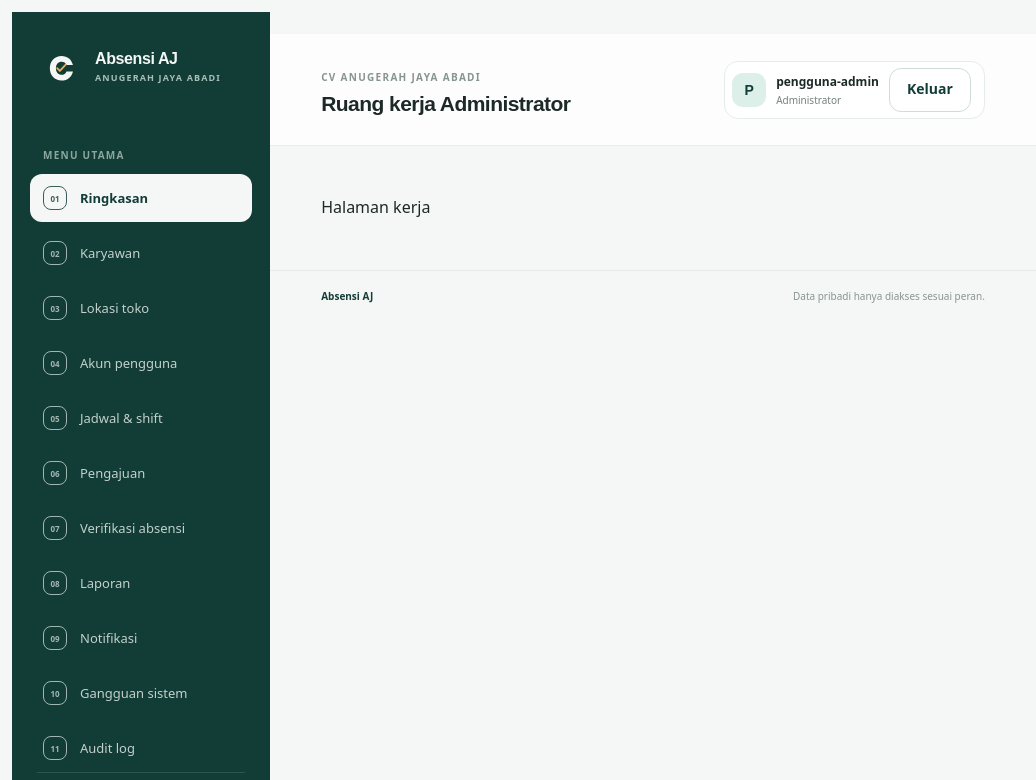
AppShell logout › shows logout for ADMIN and navigates only after the API confirms success
Click the button "Keluar". click: coordinates (930, 90)
box: [889,68,971,112]
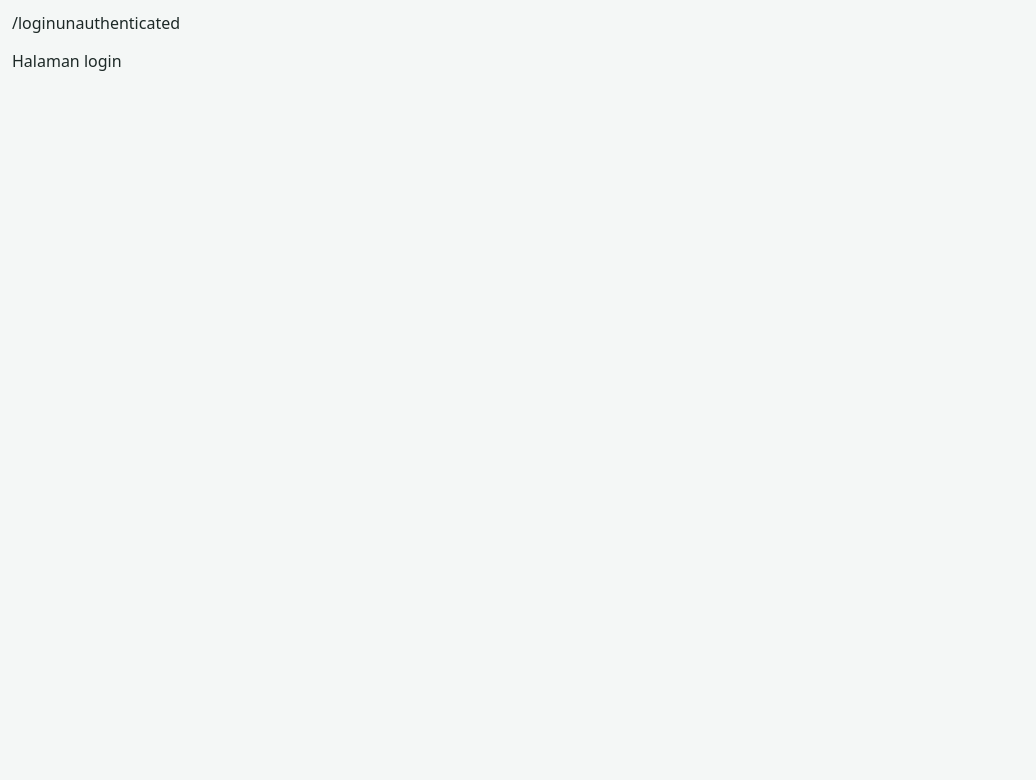
expect the text "unauthenticated" is shown: met, box [56,12,180,34]
expect the text "/login" is shown: met, box [12,12,56,34]
expect the text "Halaman login" is shown: met, box [12,50,122,72]
